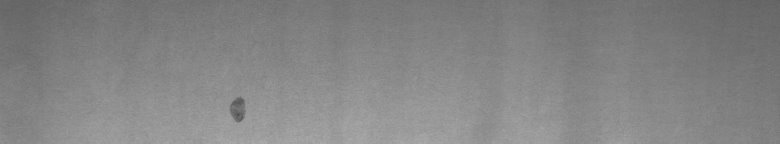fi: (226, 92, 249, 128)
